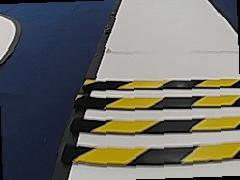bump: (69, 69, 236, 170)
